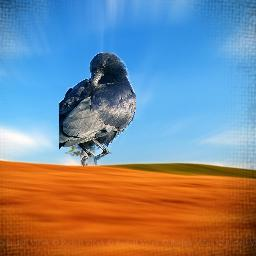Crow: (59, 52, 136, 165)
